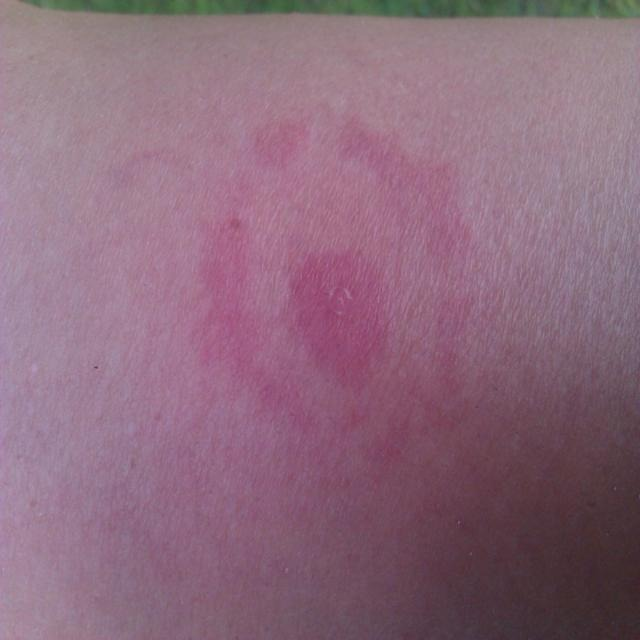Ringworm: (187, 72, 502, 497)
